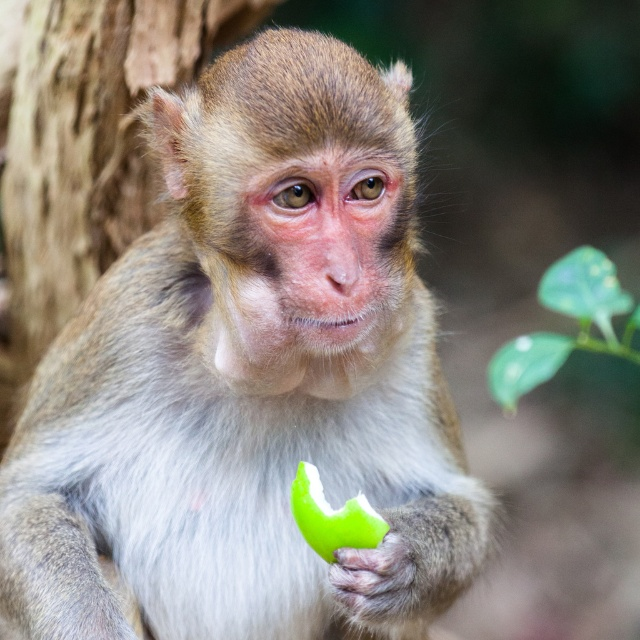Monkey: (0, 18, 521, 640)
